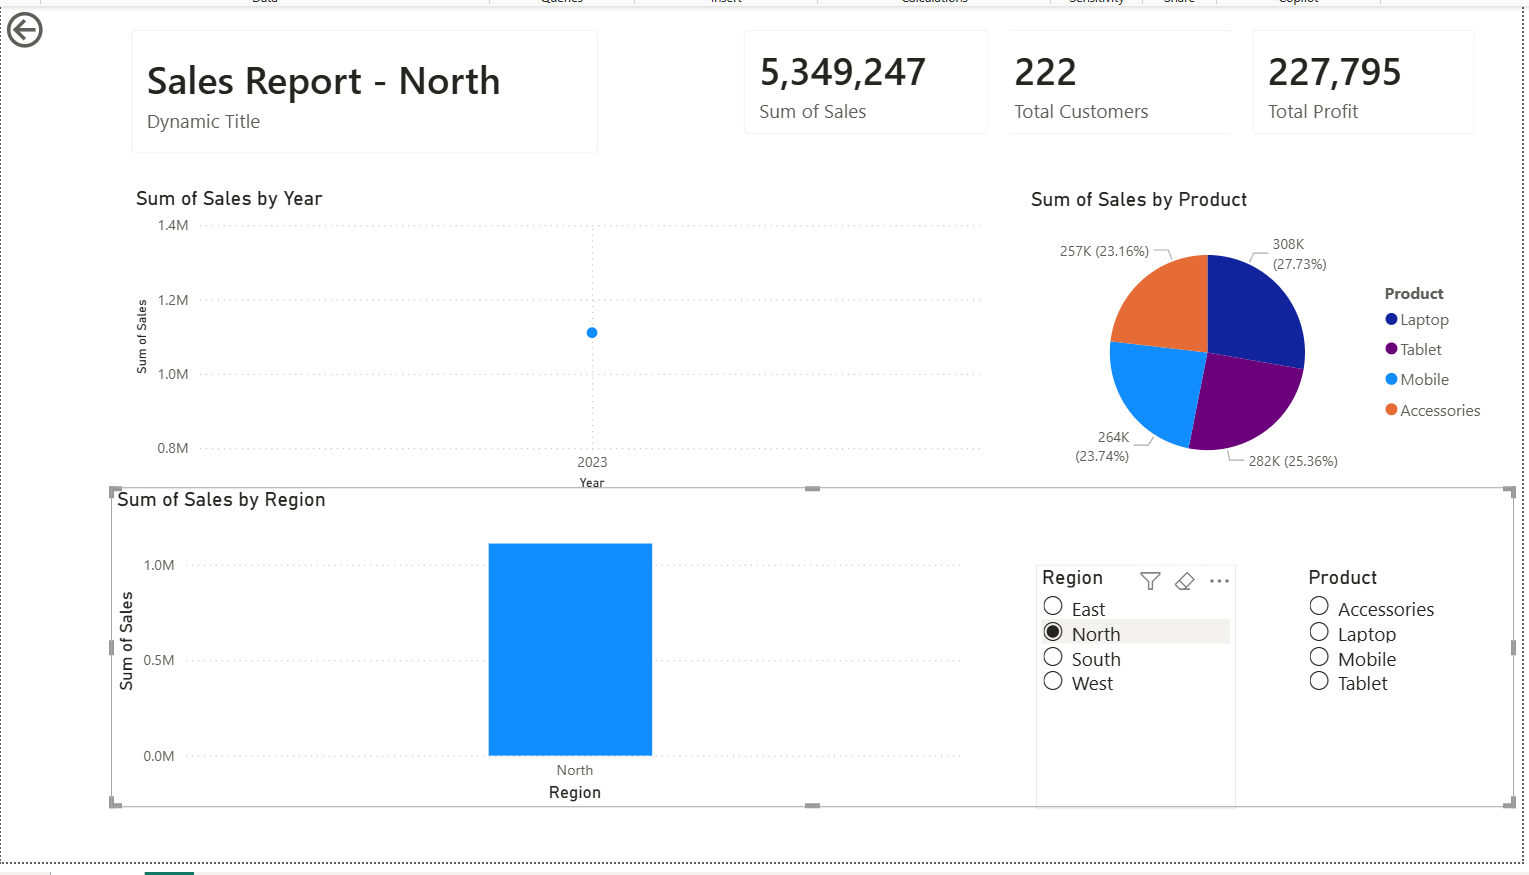

The dashboard page shown, as its layout file describes it:
{"tool":"powerbi","page":{"name":"Page 1","canvas":[1280,720],"ordinal":0},"visuals":[{"type":"actionButton","box":[0,0,100,40],"z":0},{"type":"cardVisual","fields":{"Data":["power_bi_sales_dataset.Total Customers"]},"box":[822.2,3.5,232.3,122.1],"z":0,"group":"g3"},{"type":"lineChart","fields":{"Y":["Sum(power_bi_sales_dataset.Sales)"],"Category":["power_bi_sales_dataset.Date.Variation.Date Hierarchy.Year","power_bi_sales_dataset.Date.Variation.Date Hierarchy.Quarter","power_bi_sales_dataset.Date.Variation.Date Hierarchy.Month","power_bi_sales_dataset.Date.Variation.Date Hierarchy.Day"]},"box":[108.1,151.2,723.3,260.5],"z":0,"group":"g1"},{"type":"cardVisual","fields":{"Data":["power_bi_sales_dataset.Total Profit"]},"box":[1036.6,3.5,221.5,122.1],"z":1000,"group":"g3"},{"type":"clusteredColumnChart","fields":{"Category":["power_bi_sales_dataset.Region"],"Y":["Sum(power_bi_sales_dataset.Sales)"]},"box":[93,404.7,722.1,269.8],"z":1000,"group":"g2"},{"type":"cardVisual","fields":{"Data":["Min(power_bi_sales_dataset.Total Sales)"]},"box":[607.9,3.5,240.7,122.1],"z":2000,"group":"g3"},{"type":"group","id":"g1","title":"Group 2","box":[108.1,151.2,1150,260.5],"z":2000},{"type":"pieChart","fields":{"Category":["power_bi_sales_dataset.Product"],"Y":["Sum(power_bi_sales_dataset.Sales)"]},"box":[860.4,151.8,397.7,259.3],"z":2000,"group":"g1"},{"type":"group","id":"g2","title":"Group 3","box":[93,404.7,1180.2,269.8],"z":3000},{"type":"listSlicer","fields":{"Values":["power_bi_sales_dataset.Product"]},"box":[1095.3,469.8,177.9,204.7],"z":4000,"group":"g2"},{"type":"listSlicer","fields":{"Values":["power_bi_sales_dataset.Region"]},"box":[870.9,469.8,168.6,204.7],"z":5000,"group":"g2"},{"type":"cardVisual","fields":{"Data":["power_bi_sales_dataset.Dynamic Title"]},"box":[93,3.5,427.5,138.4],"z":5005,"group":"g3"},{"type":"group","id":"g3","title":"Group 1","box":[93,3.5,1165.1,138.4],"z":5006}]}

Visuals, with their boxes on the page's 1280x720 design canvas (x1, y1, x2, y2). These are canvas units, not pixel positions in the 1529x875 screenshot, which may show the page scaled, cropped or inside an application window:
actionButton: box=[0, 0, 100, 40]
cardVisual - power_bi_sales_dataset.Total Customers: box=[822, 4, 1054, 126]
lineChart - Sum(power_bi_sales_dataset.Sales) x power_bi_sales_dataset.Date.Variation.Date Hierarchy.Year: box=[108, 151, 831, 412]
cardVisual - power_bi_sales_dataset.Total Profit: box=[1037, 4, 1258, 126]
clusteredColumnChart - power_bi_sales_dataset.Region x Sum(power_bi_sales_dataset.Sales): box=[93, 405, 815, 674]
cardVisual - Min(power_bi_sales_dataset.Total Sales): box=[608, 4, 849, 126]
"Group 2" group: box=[108, 151, 1258, 412]
pieChart - power_bi_sales_dataset.Product x Sum(power_bi_sales_dataset.Sales): box=[860, 152, 1258, 411]
"Group 3" group: box=[93, 405, 1273, 674]
listSlicer - power_bi_sales_dataset.Product: box=[1095, 470, 1273, 674]
listSlicer - power_bi_sales_dataset.Region: box=[871, 470, 1040, 674]
cardVisual - power_bi_sales_dataset.Dynamic Title: box=[93, 4, 520, 142]
"Group 1" group: box=[93, 4, 1258, 142]
